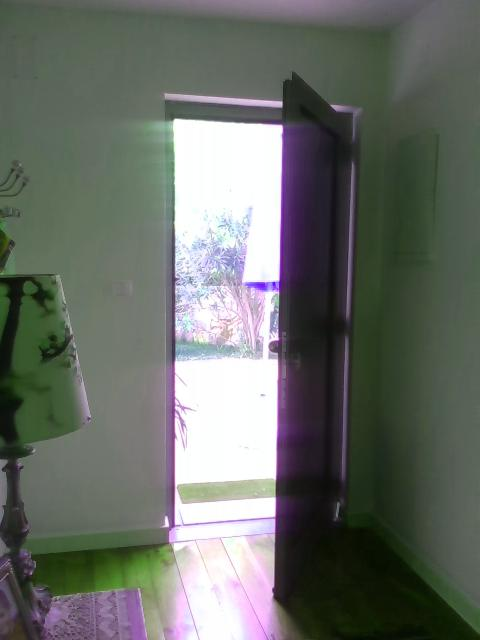semi_door: (163, 67, 357, 604)
